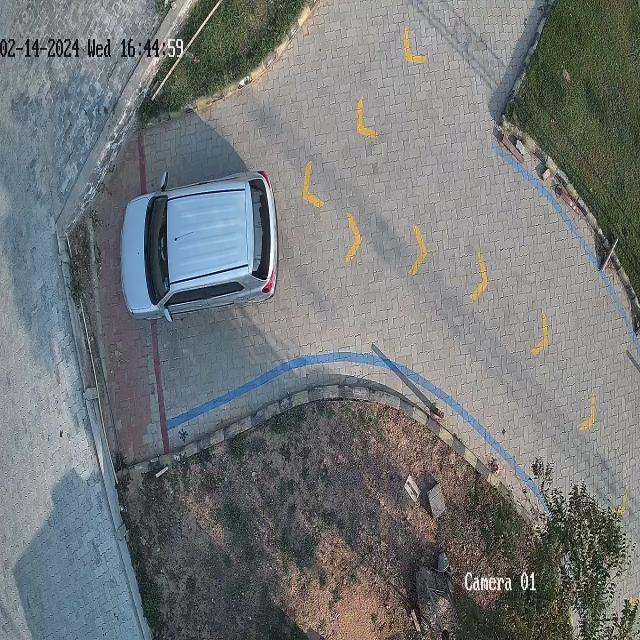car: (121, 171, 278, 320)
